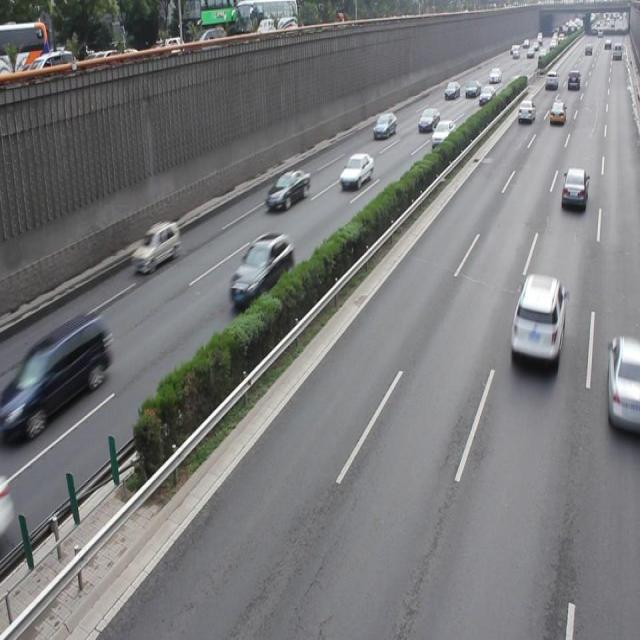car: (509, 271, 565, 367), (228, 231, 294, 309), (605, 332, 640, 432), (131, 220, 180, 272), (265, 167, 311, 213), (338, 153, 372, 188), (560, 167, 586, 210)
truck: (1, 313, 113, 444)
